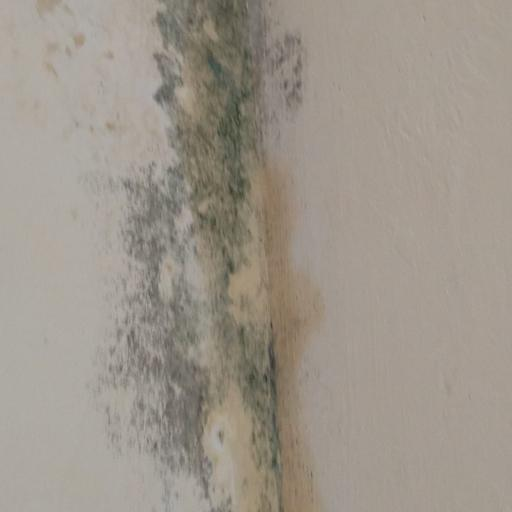algae: (106, 0, 348, 511)
